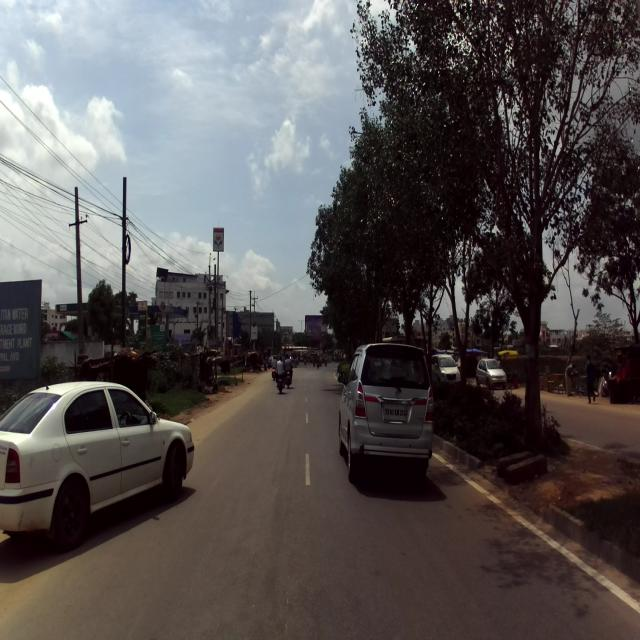car: (0, 378, 194, 553), (335, 342, 438, 488)
